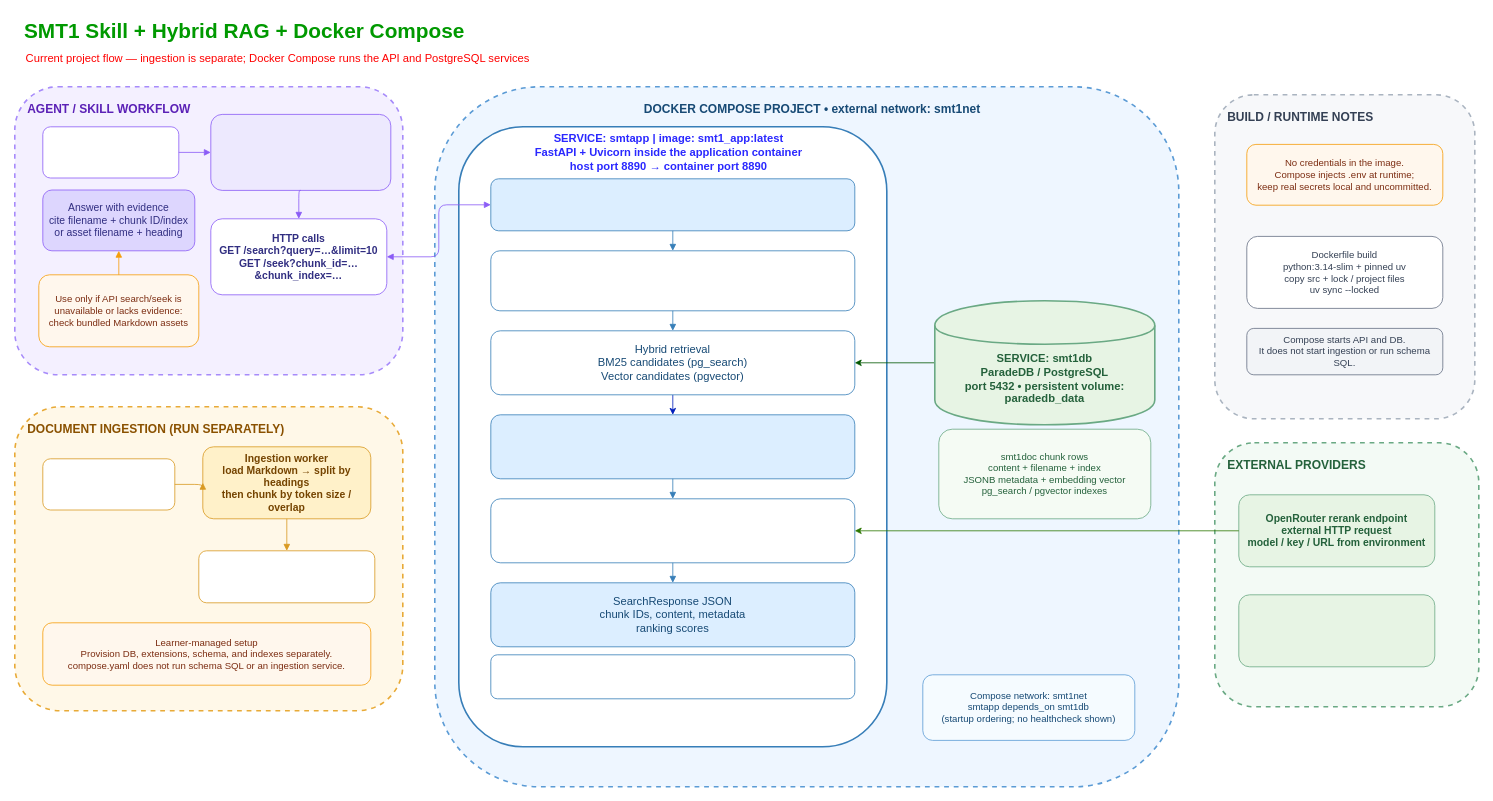
Some shapes in this 1493 by 801 pixel diagram are drawn without their labels. The centre of each missing label's shape, as x and y in pixels:
/seek returns the target chunk and its immediate neighbors: the point at 672,676
Embed each chunk write vector + metadata to PostgreSQL smt1doc: the point at 286,576
Embedding provider configured via environment used for chunks and queries: the point at 1336,630
FastAPI routes /health • /search • /seek: the point at 672,204
Markdown sources data/org/*.md: the point at 108,484
OpenRouter reranking score fused candidates keep chunk IDs and metadata: the point at 672,530
Player / user asks an SMT1 question: the point at 110,152
Query embedding embed the user's question: the point at 672,280
Rank fusion (RRF) combine BM25 + vector ranks return top candidates: the point at 672,446
SMT1 Search Skill SKILL.md instructions API first; assets as last resort: the point at 300,152
